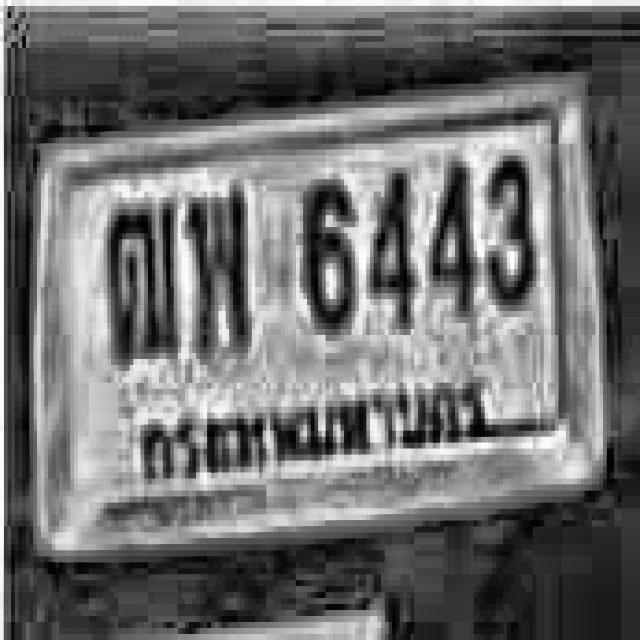license-plate: (19, 69, 616, 587)
